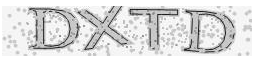D: (182, 8, 239, 56), (27, 6, 80, 51)
T: (128, 7, 181, 53)
X: (75, 5, 130, 53)
